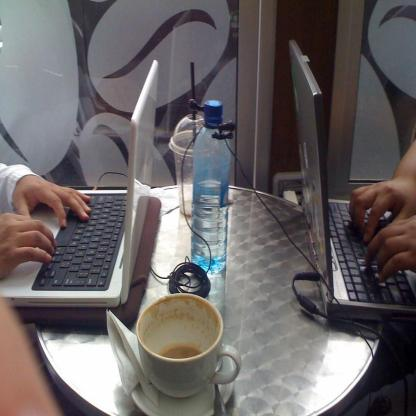board: (0, 57, 156, 306), (288, 37, 416, 320), (191, 100, 228, 270), (170, 115, 206, 216)
